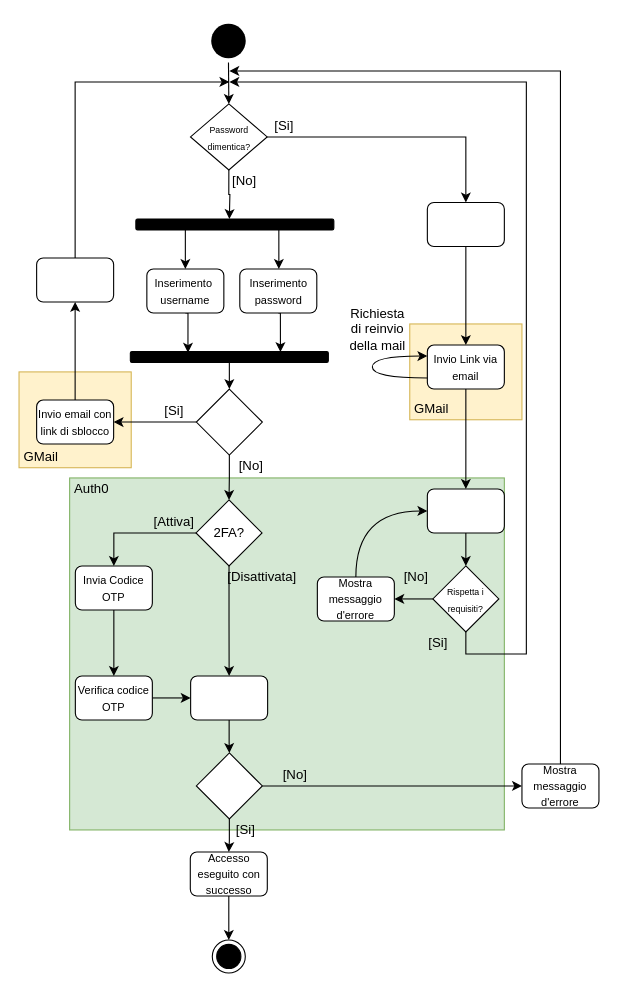
This 628x992 diagram has some shape labels left out. Here are the shapes that lost their labels. From the top down, the box of each, then its label:
(426, 201, 504, 247): Recupero password
(36, 257, 114, 302): L'utente clicca sul link di sblocco
(195, 388, 262, 455): Bloccato?
(426, 488, 504, 533): Inserimento nuova password
(190, 675, 268, 720): Controllo Credenziali
(195, 752, 262, 819): Corrette?
